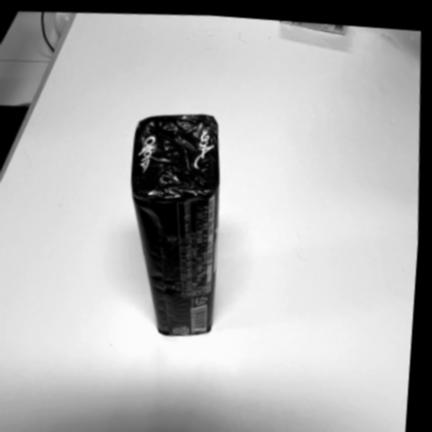cracker_ace: (132, 114, 220, 334)
